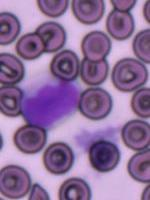M: (17, 72, 82, 129)
